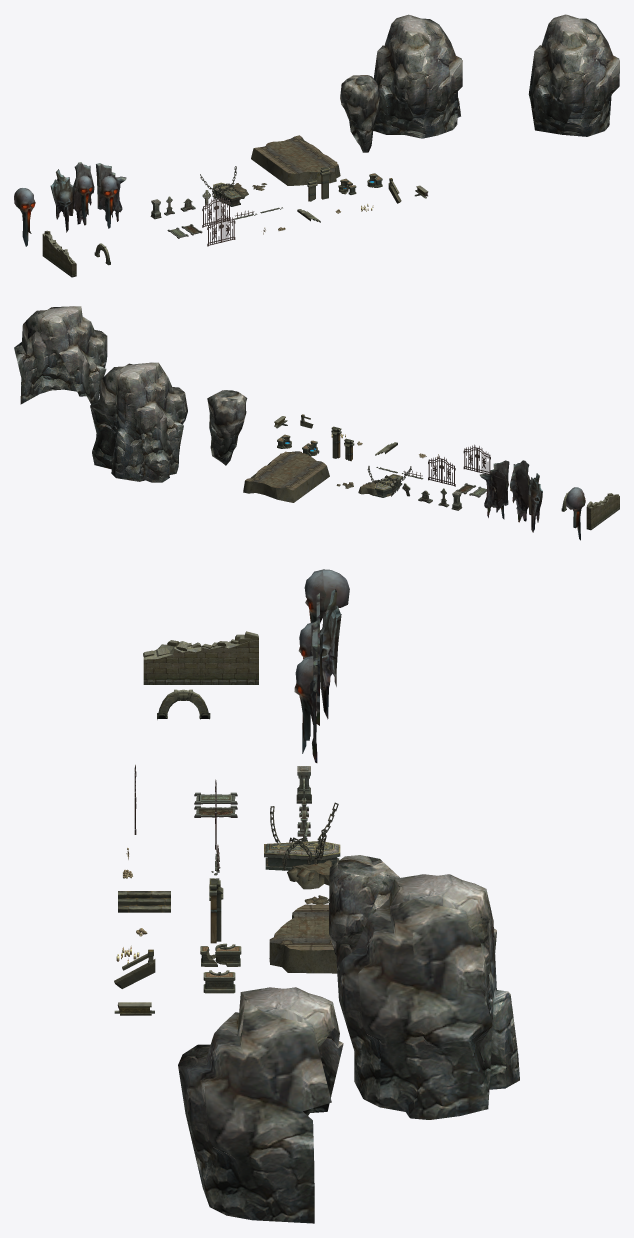
Rendered from f_1113_wujian.FBX.
3 renders of one model, top to bottom at view 1: azimuth 30°, elevation 25°; view 2: azimuth 150°, elevation 25°; view 3: azimuth 270°, elevation 25°, orthographic. The views are drawn at different scales.
Parts seen in each view (by area): view 1: d_103_Stone_04, d_103_Stone_006, f_1103_stage01, d_103_Stone_05, f_108_Bone_06, f_108_Bone_05, f_108_Bone_07, f_1113_floor01, f_1113_floor_a06, f_1103_floor37, f_1103_floor10; view 2: d_103_Stone_04, d_103_Stone_006, f_1103_stage01, d_103_Stone_05, f_108_Bone_06, f_108_Bone_05, f_1113_floor01, f_108_Bone_07, f_1113_floor_a06, f_1103_floor37; view 3: d_103_Stone_04, d_103_Stone_006, d_103_Stone_05, f_1103_stage01, f_1103_floor37, f_108_Bone_06, f_1103_floor10, f_1113_floor01, f_108_Bone_05, f_108_Bone_07, f_1103_stone04, f_1103_stage03.
Part boxes in pixels (x1,y1,x2,y2): d_103_Stone_04: [373, 14, 462, 138]; d_103_Stone_006: [528, 14, 619, 136]; f_1103_stage01: [251, 135, 340, 185]; d_103_Stone_05: [340, 75, 379, 152]; f_108_Bone_06: [50, 162, 94, 232]; f_108_Bone_05: [96, 163, 126, 228]; f_108_Bone_07: [14, 188, 35, 246]; f_1113_floor01: [200, 166, 241, 206]; f_1113_floor_a06: [202, 196, 230, 227]; f_1103_floor37: [42, 230, 61, 266]; f_1103_floor10: [57, 247, 76, 277]; d_103_Stone_04: [90, 362, 187, 482]; d_103_Stone_006: [14, 306, 107, 404]; f_1103_stage01: [243, 451, 329, 502]; d_103_Stone_05: [207, 390, 247, 465]; f_108_Bone_06: [510, 460, 542, 532]; f_108_Bone_05: [480, 460, 509, 519]; f_1113_floor01: [367, 466, 411, 497]; f_108_Bone_07: [566, 487, 585, 540]; f_1113_floor_a06: [428, 455, 455, 486]; f_1103_floor37: [586, 500, 605, 530]; d_103_Stone_04: [336, 874, 519, 1119]; d_103_Stone_006: [178, 987, 343, 1223]; d_103_Stone_05: [329, 855, 399, 957]; f_1103_stage01: [269, 904, 337, 973]; f_1103_floor37: [201, 631, 258, 684]; f_108_Bone_06: [298, 589, 341, 725]; f_1103_floor10: [143, 640, 201, 684]; f_1113_floor01: [264, 802, 340, 870]; f_108_Bone_05: [294, 620, 317, 762]; f_108_Bone_07: [304, 569, 349, 623]; f_1103_stone04: [118, 891, 170, 912]; f_1103_stage03: [287, 860, 335, 889].
Bounding box in the file's own units: 5201 × 854 × 1597.
